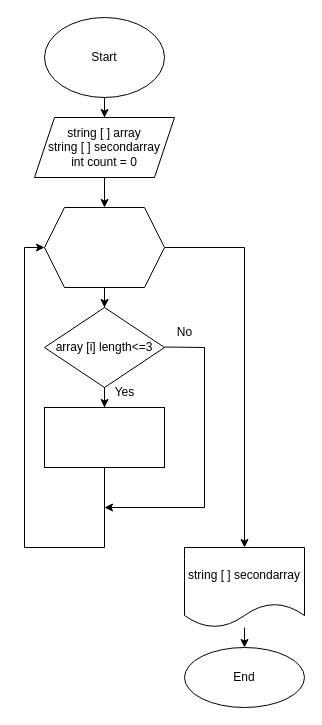
Image size: 322x725. Some labels were removed from this diagram. The centre of each missing label's shape, as x and y in pixels:
"i=0, i < array.Length, i++" belongs at point 104,247.
"secondarray [count] = array [i] count++" belongs at point 104,437.
